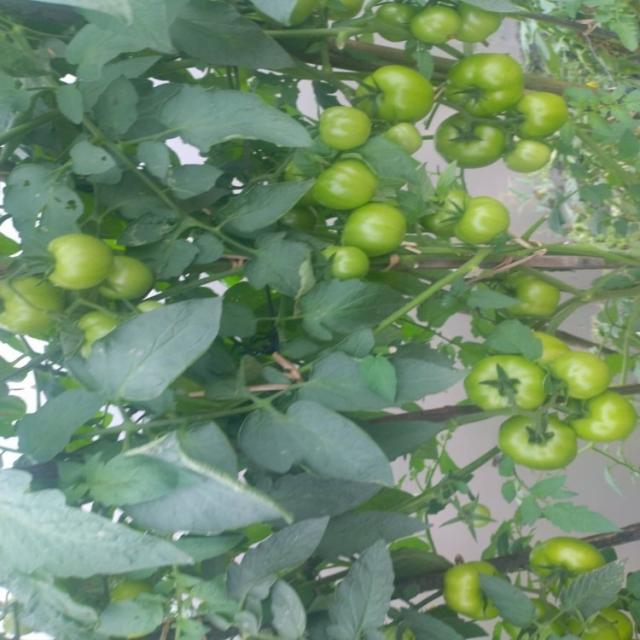tomato: (465, 354, 541, 416), (452, 53, 524, 117), (529, 533, 606, 591), (433, 113, 511, 169), (499, 413, 574, 469), (360, 67, 436, 122), (561, 389, 637, 444), (341, 196, 411, 253), (440, 558, 498, 625), (544, 347, 614, 402), (5, 277, 62, 342), (52, 230, 111, 292), (314, 162, 390, 210), (314, 237, 380, 290), (496, 271, 559, 324), (515, 83, 574, 137), (545, 607, 640, 640), (462, 189, 515, 245), (315, 104, 377, 149), (410, 1, 458, 58), (419, 190, 470, 236), (505, 138, 555, 182), (107, 249, 155, 293), (458, 7, 504, 46), (389, 119, 428, 160), (69, 314, 112, 351), (532, 322, 567, 363), (370, 7, 411, 39)
